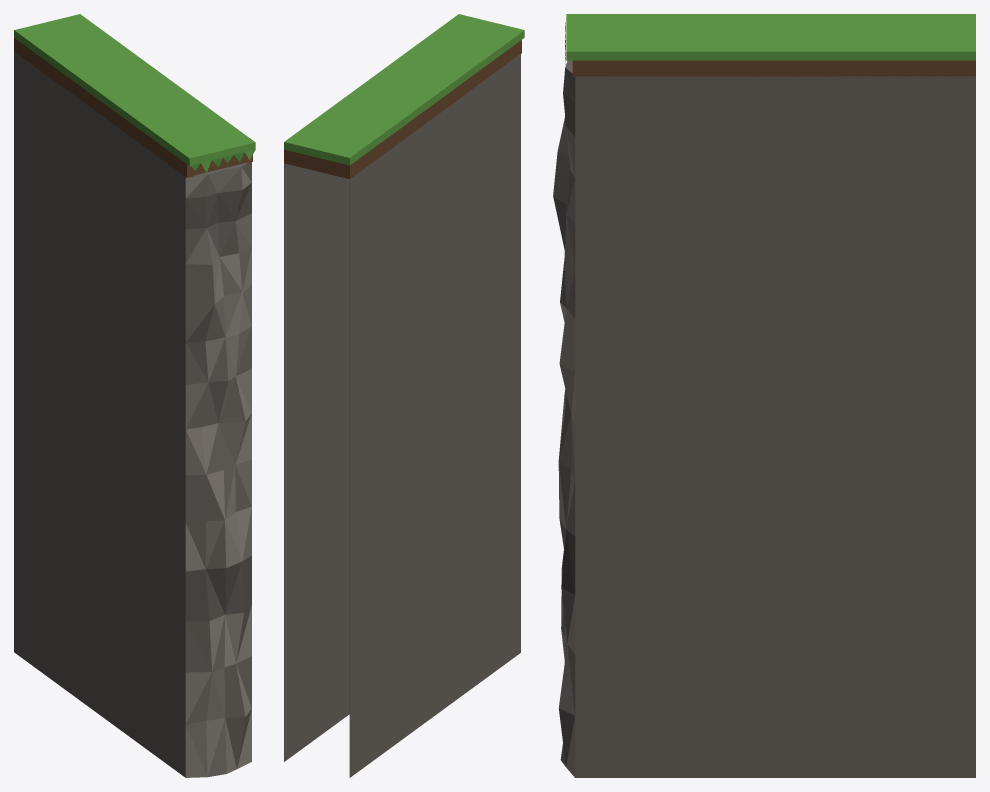
File: ground_c.glb
3 renders of one model, left to right at view 1: azimuth 30°, elevation 25°; view 2: azimuth 150°, elevation 25°; view 3: azimuth 270°, elevation 25°, orthographic. The views are drawn at different scales.
Parts seen in each view (by area): view 1: ground_mesh; view 2: ground_mesh; view 3: ground_mesh.
Part boxes in pixels (x1,y1,x2,y2): ground_mesh: (14,14,255,777); ground_mesh: (284,14,524,777); ground_mesh: (553,14,975,777).
Size of the model in its own units: 2 by 18 by 9.5.
